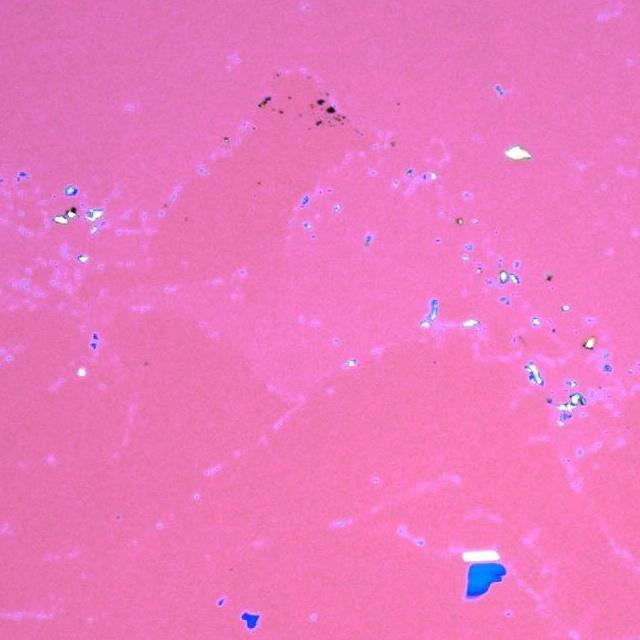monolayer-eWW4: (465, 596, 481, 602)
